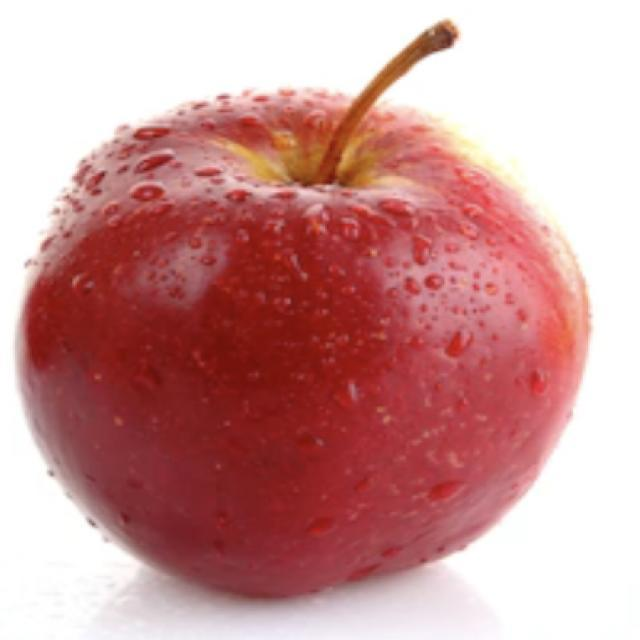Fresh Apple: (28, 90, 562, 603)
